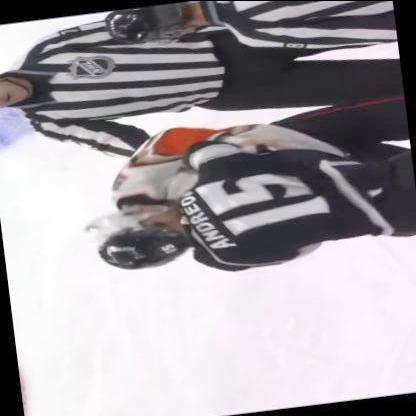voilence: (67, 96, 415, 292)
